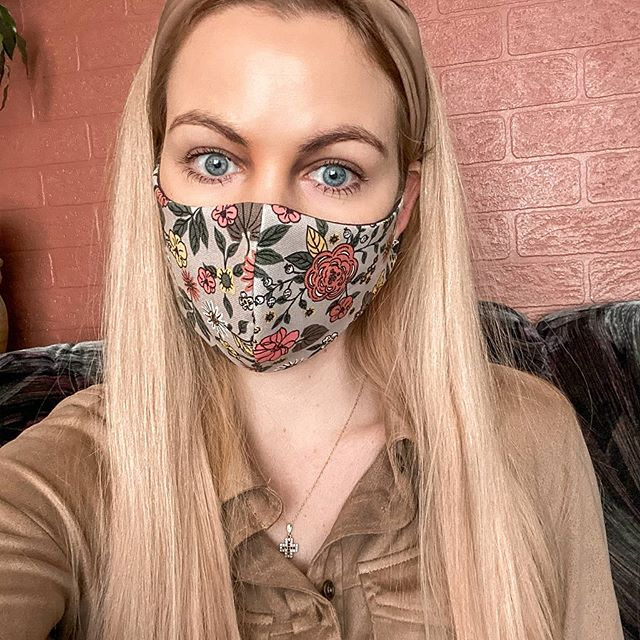homemade: (141, 165, 421, 367)
